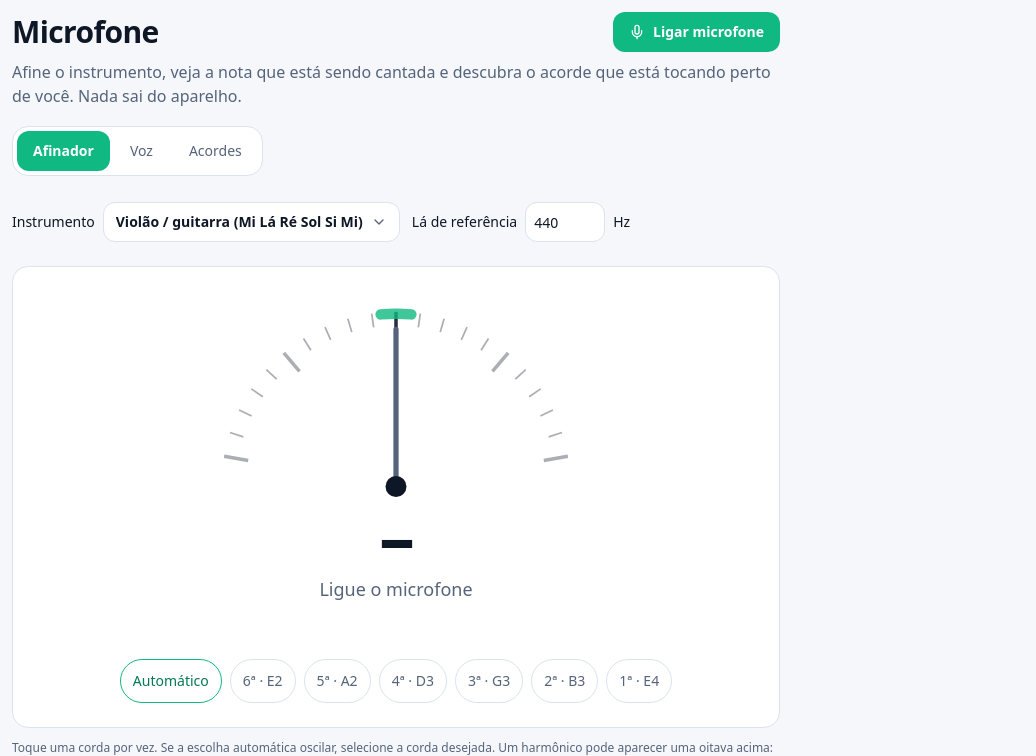
Test: microphone lifecycle and controls › provides manual string selection and a vocal target without requesting permission on entry
The width and height of the screenshot is (1036, 756).
Click the button "6ª · E2" at (263, 681), box left=230, top=659, right=296, bottom=703
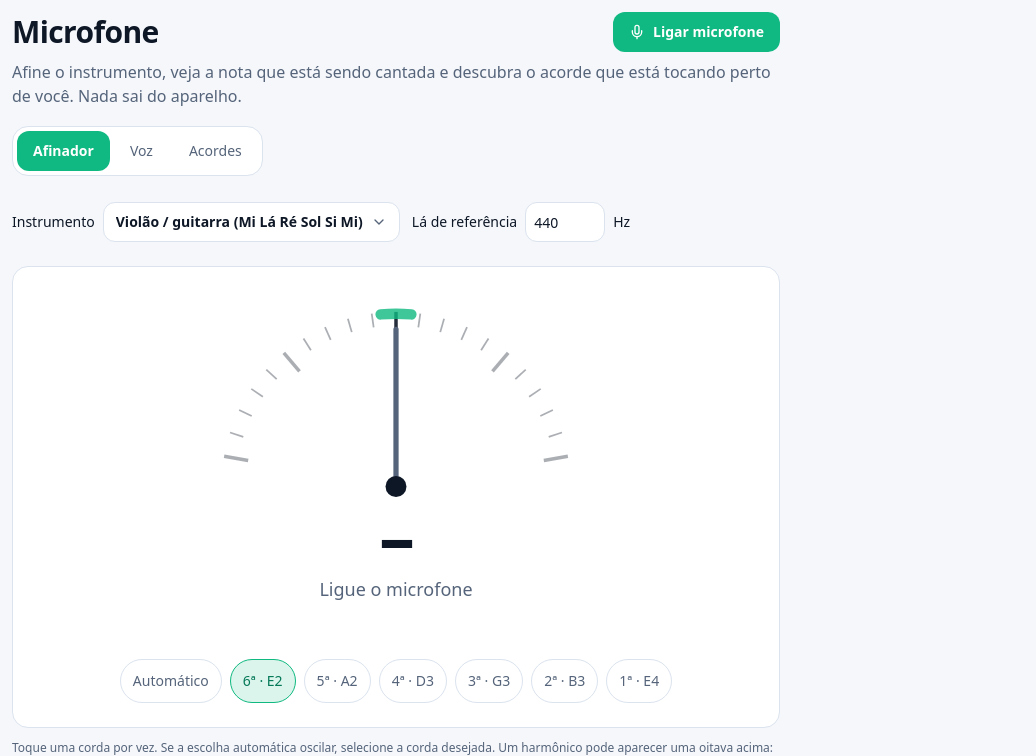
Now the button "6ª · E2" is pressed, box left=230, top=659, right=296, bottom=703
Click the button "Automático" at (171, 681), box left=120, top=659, right=222, bottom=703
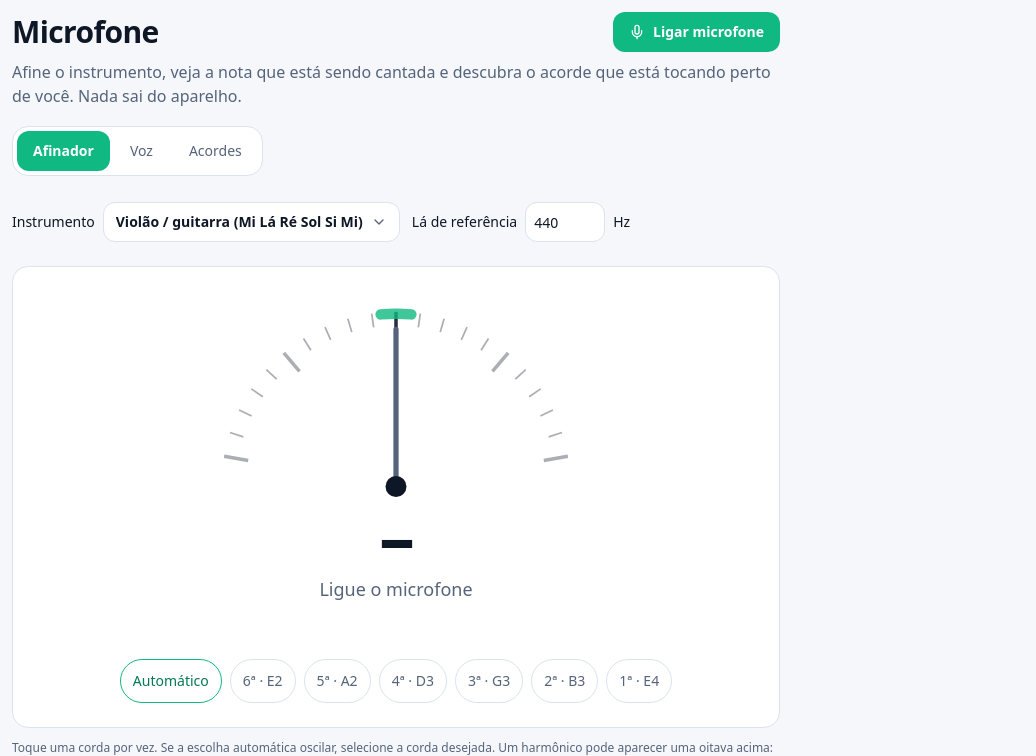
Now the button "Automático" is pressed, box left=120, top=659, right=222, bottom=703
Click the tab "Voz" at (141, 151), box left=114, top=131, right=169, bottom=171
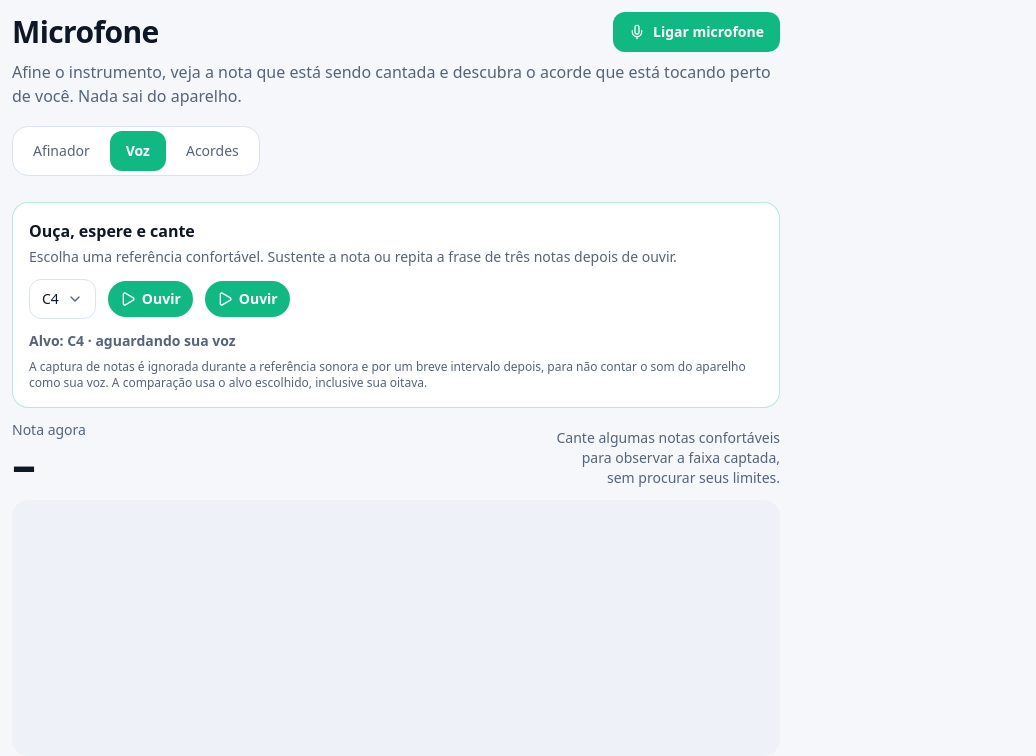
Now the element named "Prática de afinação vocal" is shown, box left=12, top=202, right=780, bottom=408
Now the text "Alvo: C4 · aguardando sua voz" is shown, box left=29, top=331, right=236, bottom=350
